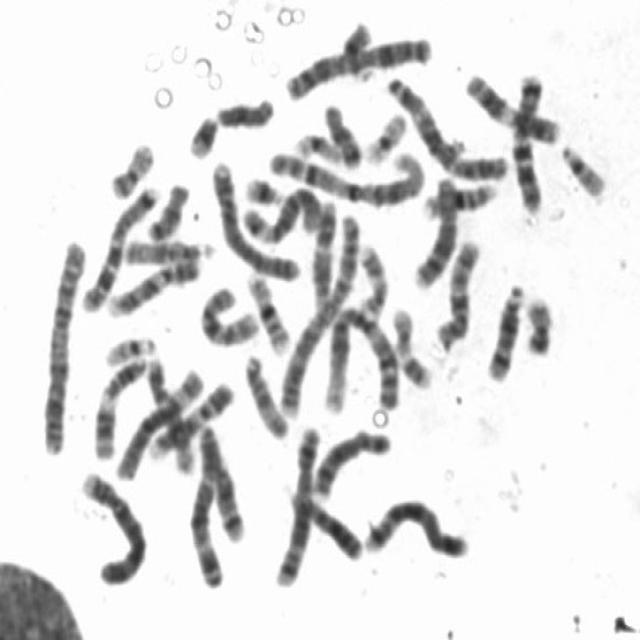A1: (262, 137, 428, 207), (315, 296, 404, 415)
A2: (272, 201, 362, 418), (33, 229, 90, 458)
A3: (380, 64, 511, 184), (183, 420, 230, 590)
B4: (204, 150, 304, 284), (72, 459, 151, 588)
B5: (267, 414, 324, 589), (357, 488, 472, 560)
C10: (428, 227, 485, 351), (192, 274, 262, 348)
C11: (458, 63, 564, 147), (86, 345, 150, 462)
C12: (139, 351, 199, 475), (305, 190, 341, 307)
C6: (108, 358, 207, 482), (236, 176, 325, 246)
C7: (76, 174, 163, 313), (505, 62, 549, 214)
C8: (305, 418, 395, 500), (406, 167, 462, 291)
C9: (142, 373, 237, 463), (99, 247, 203, 319)
D13: (283, 481, 366, 563), (280, 48, 368, 104)
D14: (479, 272, 528, 383), (205, 447, 249, 542)
D15: (238, 344, 294, 441), (116, 229, 218, 266)
E16: (240, 263, 294, 355), (417, 170, 502, 221)
E17: (386, 298, 436, 390), (351, 233, 391, 319)
E18: (316, 92, 365, 170), (140, 171, 192, 243)
F19: (357, 101, 410, 166), (286, 122, 346, 166)
F20: (102, 132, 158, 200), (518, 286, 557, 358)
G21: (181, 104, 221, 160), (236, 166, 287, 208)
G22: (554, 133, 610, 200), (97, 325, 159, 367)
X: (338, 19, 434, 77)
Y: (210, 88, 278, 130)
